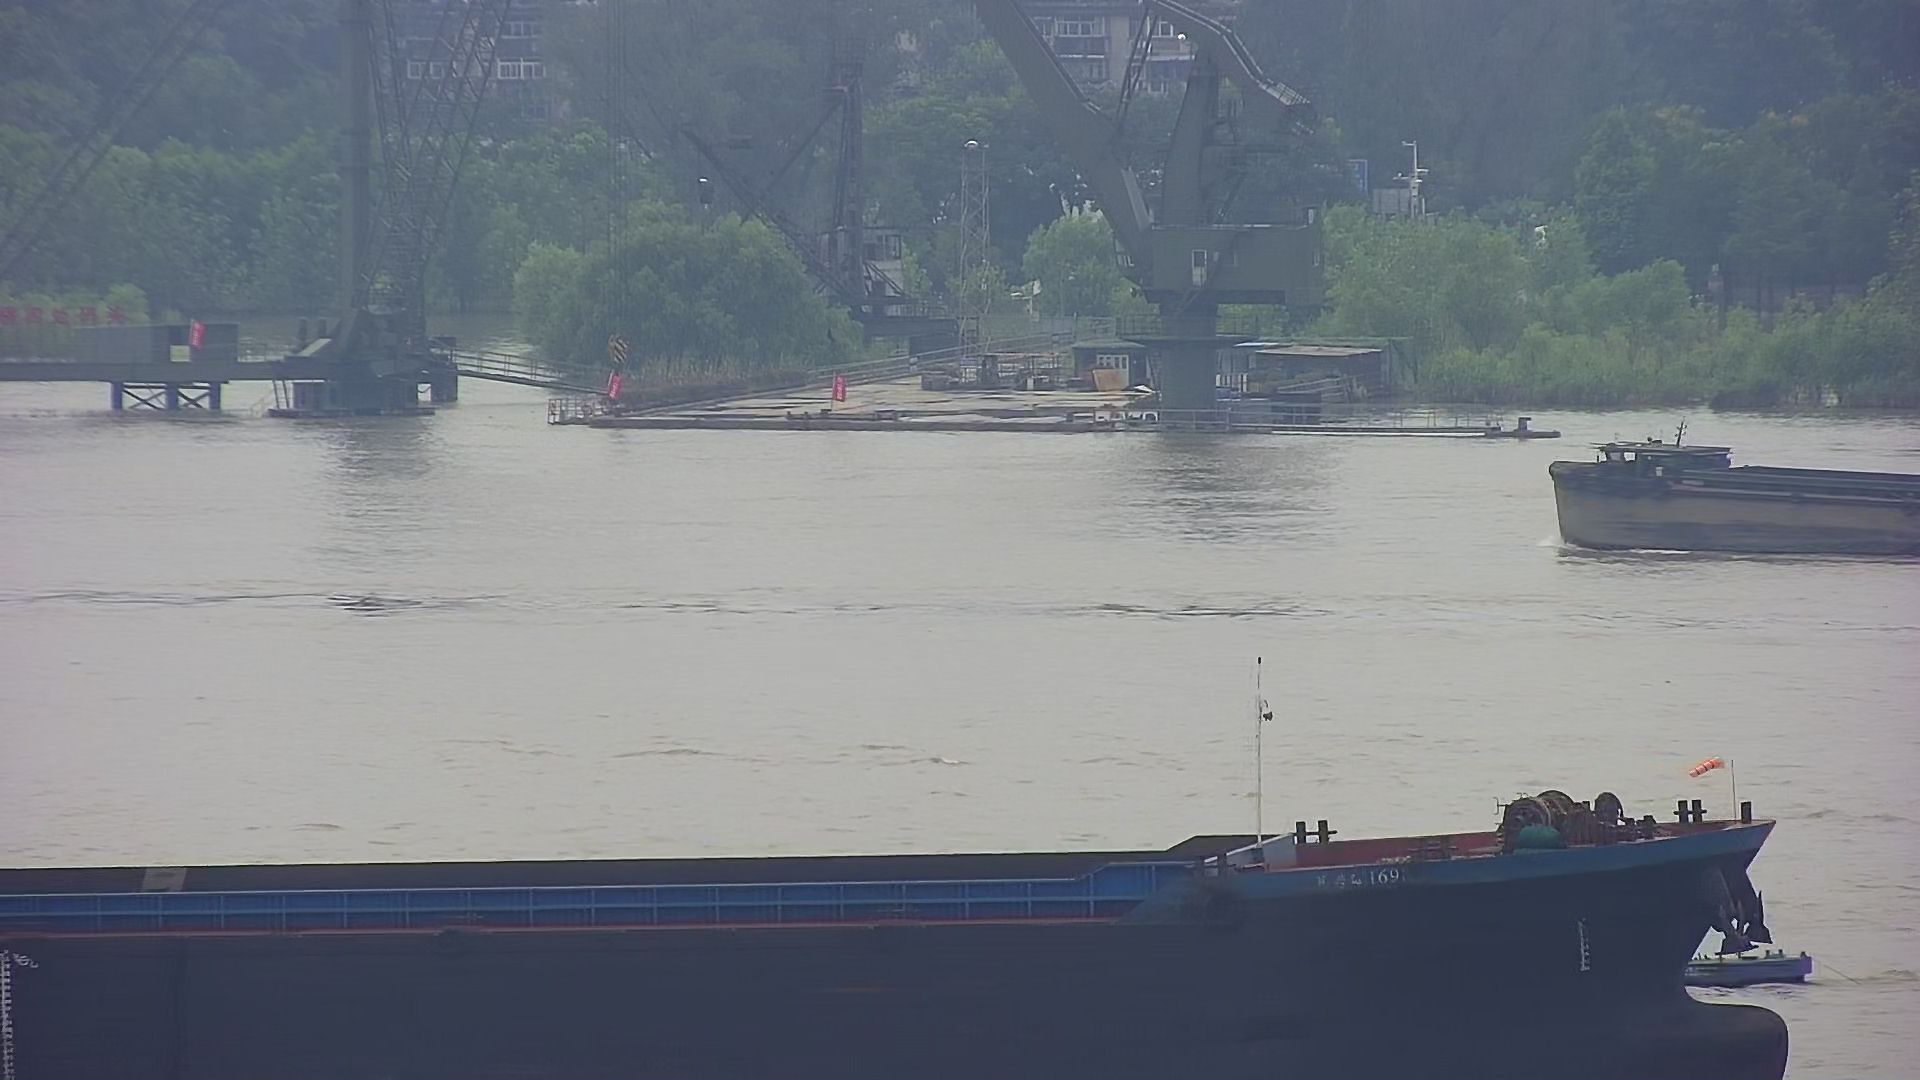boat: (1675, 932, 1837, 1004)
platform: (1, 1, 480, 421)
ship: (5, 634, 1815, 1077), (1545, 417, 1920, 585)
